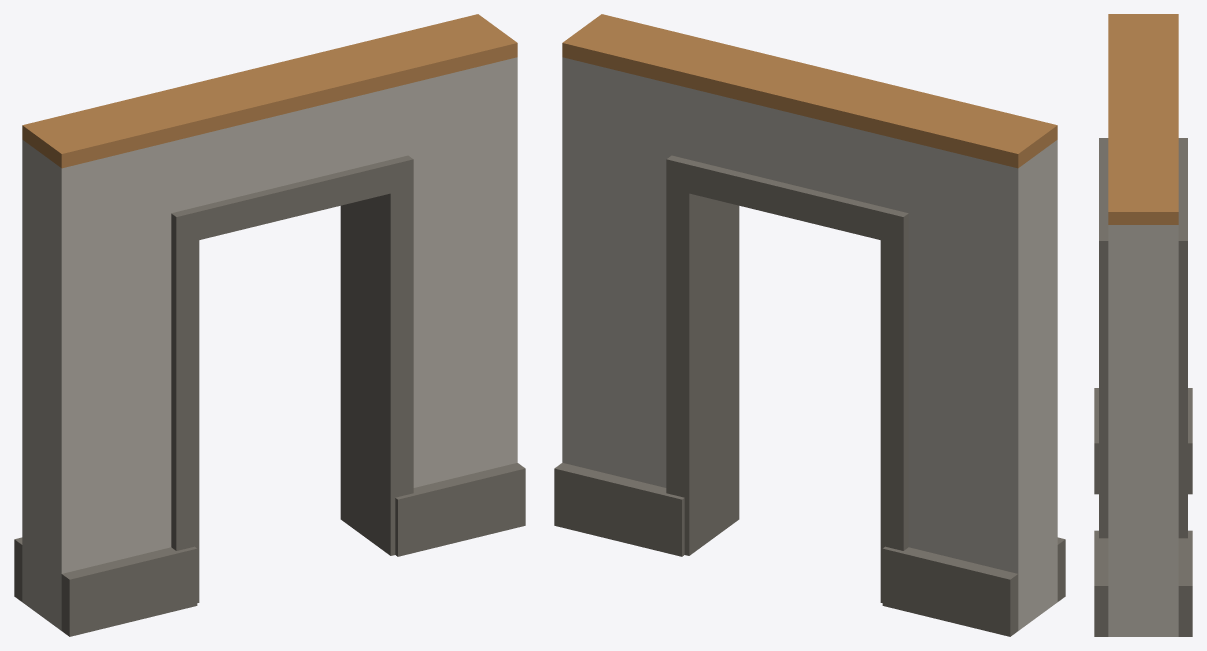
File: wall-door.glb
3 views of the same model, side by side, from view 1: azimuth 30°, elevation 25°; view 2: azimuth 150°, elevation 25°; view 3: azimuth 270°, elevation 25° (orthographic). The views are drawn at different scales.
Visible parts, largest first — view 1: wall-door; view 2: wall-door; view 3: wall-door.
Boxes of the visible parts, x1,y1,x2,y2 form: wall-door: (14, 14, 525, 636); wall-door: (554, 14, 1065, 636); wall-door: (1094, 14, 1192, 636).
Size of the model in its own units: 1 by 1 by 0.21.
Materials: 1 (1 with a texture image).
